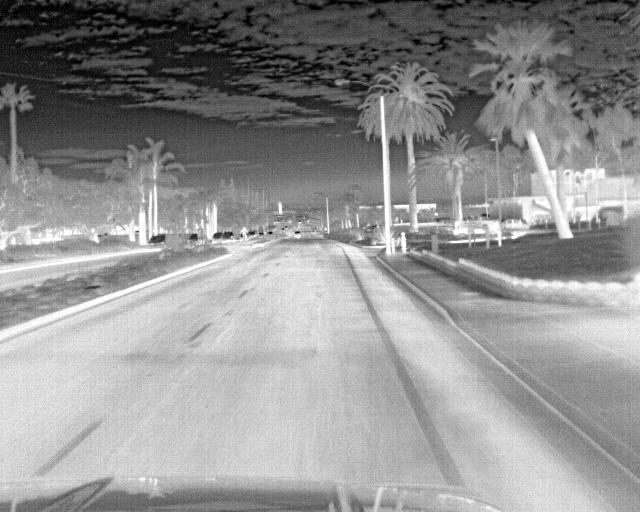car: (144, 235, 164, 251), (222, 230, 235, 245), (209, 230, 223, 243)
